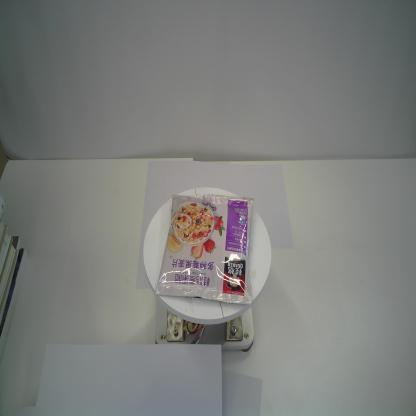Instant Drink: (154, 193, 254, 306)
